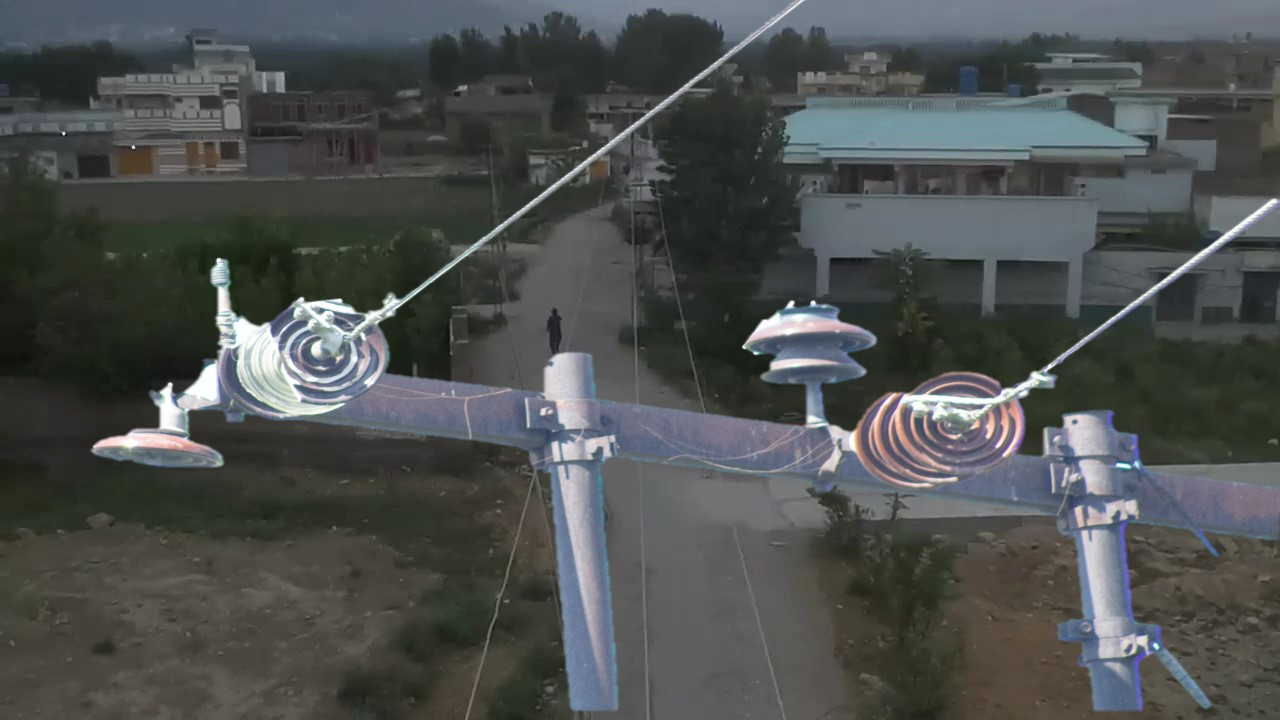defect_disc: (256, 291, 394, 410)
insulator_disc: (891, 362, 1032, 477), (86, 413, 229, 482)
